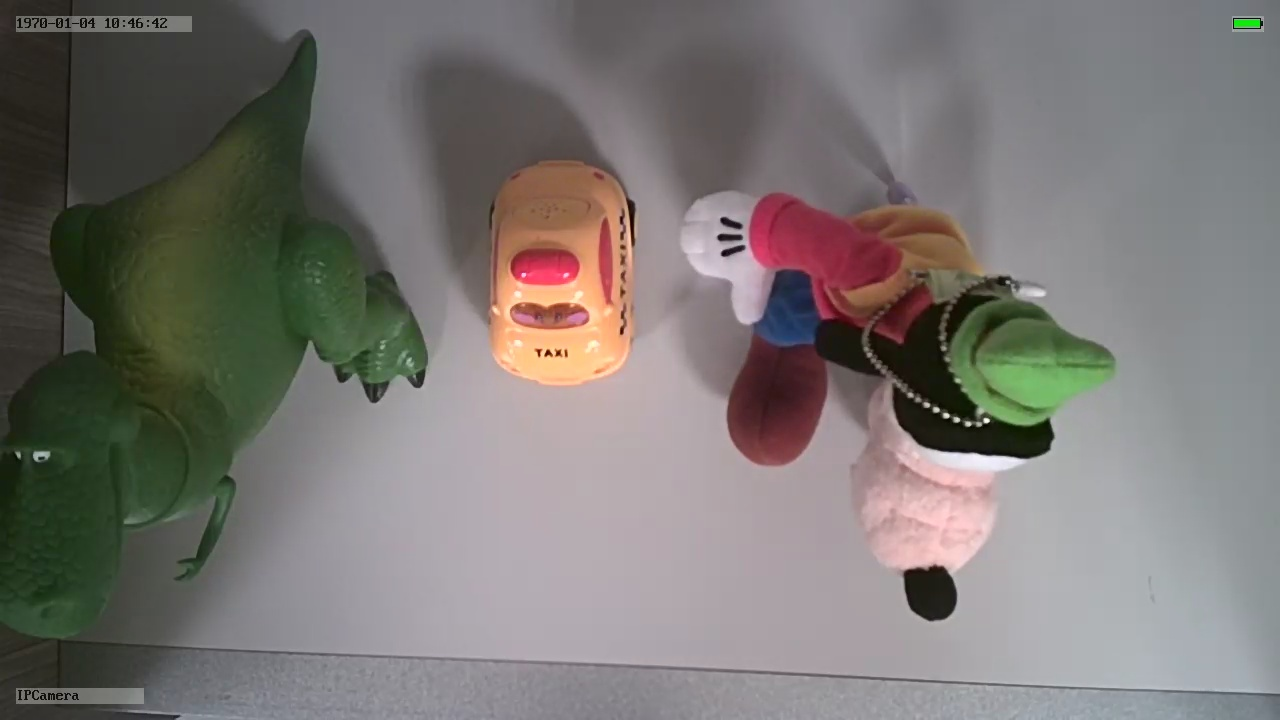car: (483, 155, 637, 387)
goofy: (671, 185, 1115, 634)
rex: (1, 114, 428, 639)
